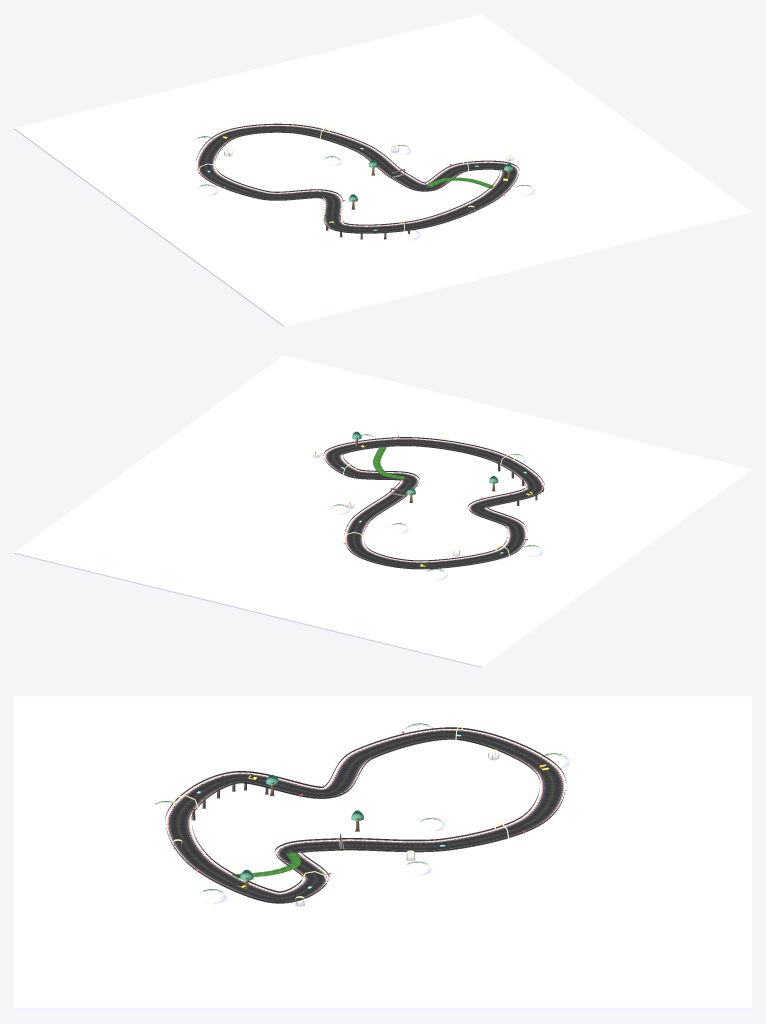
File: jardim_celeste.glb
3 renders of one model, top to bottom at view 1: azimuth 30°, elevation 25°; view 2: azimuth 150°, elevation 25°; view 3: azimuth 270°, elevation 25°, orthographic. The views are drawn at different scales.
Parts seen in each view (by area): view 1: BiomeGroundBasin, MainRoadMesh, RightStoneWall, LeftStoneWall, RightCurbMesh, LeftCurbMesh; view 2: BiomeGroundBasin, MainRoadMesh, RightStoneWall, LeftStoneWall, RightCurbMesh, LeftCurbMesh; view 3: BiomeGroundBasin, MainRoadMesh, RightStoneWall, LeftStoneWall, RightCurbMesh, LeftCurbMesh.
Part boxes in pixels (left/top/right/bottom): BiomeGroundBasin: left=14, top=14, right=751, bottom=326; MainRoadMesh: left=198, top=126, right=516, bottom=232; RightStoneWall: left=196, top=123, right=519, bottom=233; LeftStoneWall: left=214, top=131, right=500, bottom=225; RightCurbMesh: left=197, top=125, right=517, bottom=228; LeftCurbMesh: left=212, top=137, right=502, bottom=226; BiomeGroundBasin: left=14, top=355, right=751, bottom=667; MainRoadMesh: left=326, top=439, right=542, bottom=568; RightStoneWall: left=323, top=437, right=544, bottom=569; LeftStoneWall: left=342, top=445, right=526, bottom=561; RightCurbMesh: left=325, top=438, right=543, bottom=558; LeftCurbMesh: left=340, top=453, right=527, bottom=562; BiomeGroundBasin: left=14, top=696, right=751, bottom=1009; MainRoadMesh: left=168, top=730, right=562, bottom=901; RightStoneWall: left=165, top=727, right=566, bottom=903; LeftStoneWall: left=191, top=738, right=540, bottom=892; RightCurbMesh: left=167, top=729, right=563, bottom=897; LeftCurbMesh: left=188, top=747, right=543, bottom=894.
Bounding box in the file's own units: 640 × 38.12 × 640.
Materials: 14 (7 with a texture image).
